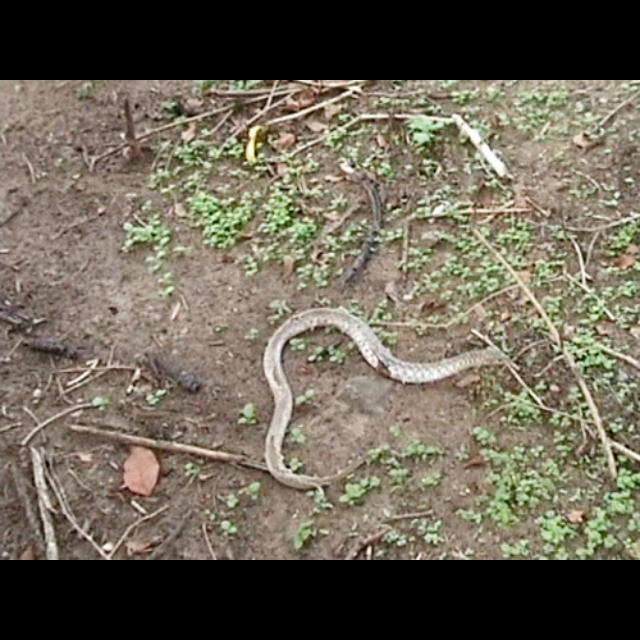snake: (262, 295, 510, 491)
